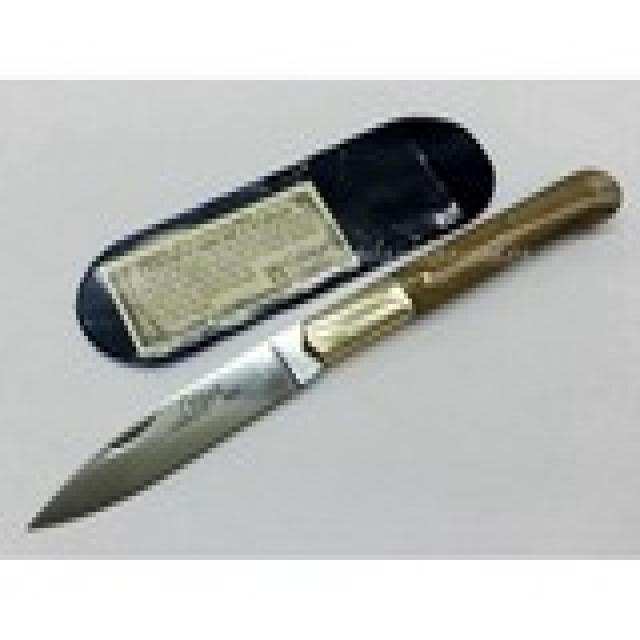Knife: (23, 164, 627, 537)
